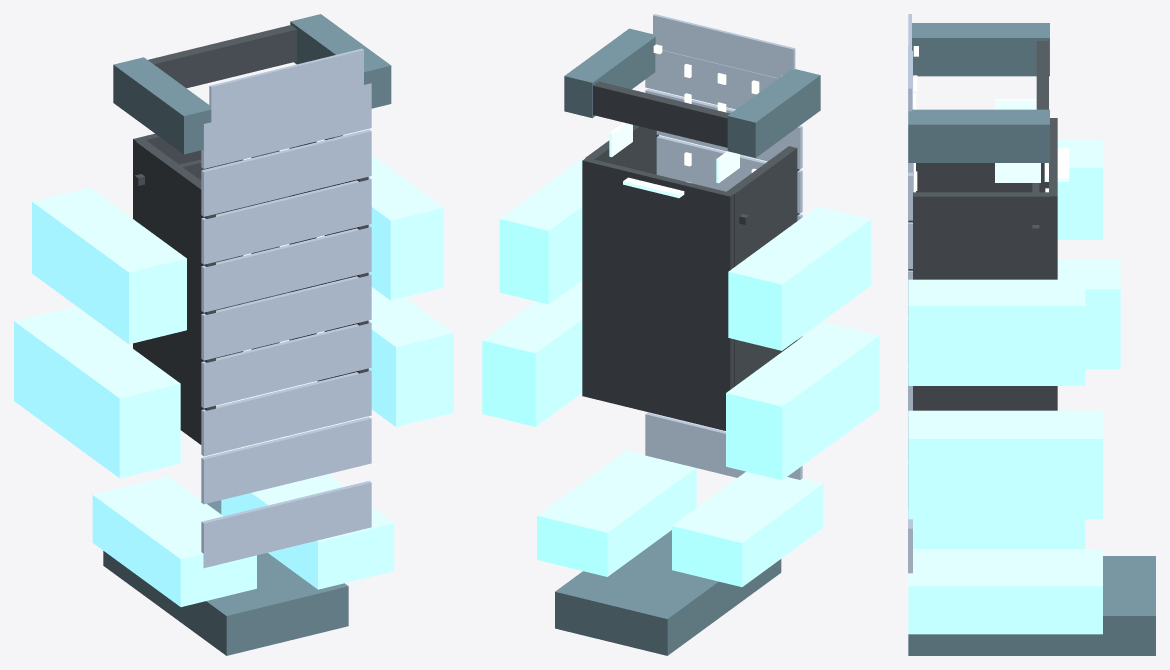
The model's file is interact_finish_frame_yard.glb.
3 renders of one model, left to right at view 1: azimuth 30°, elevation 25°; view 2: azimuth 150°, elevation 25°; view 3: azimuth 270°, elevation 25°, orthographic. The views are drawn at different scales.
Parts seen in each view (by area): view 1: interact_finish_frame_yard; view 2: interact_finish_frame_yard; view 3: interact_finish_frame_yard.
Boxes of the visible parts, left/top/right/bottom form: interact_finish_frame_yard: left=14, top=14, right=453, bottom=655; interact_finish_frame_yard: left=482, top=14, right=879, bottom=655; interact_finish_frame_yard: left=908, top=14, right=1155, bottom=655.
Size of the model in its own units: 21.9 by 35.85 by 14.02.
